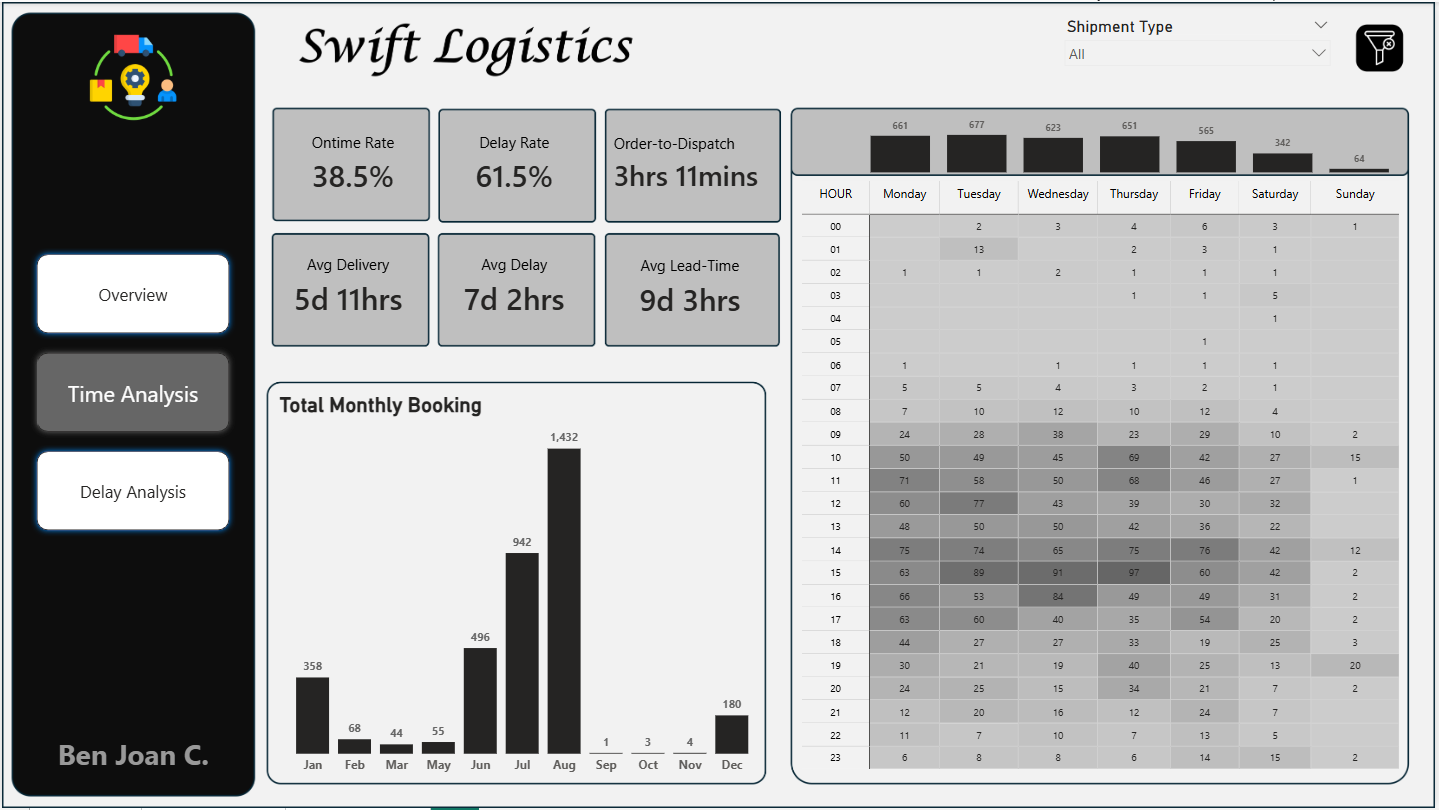

What the dashboard file says about the page in this screenshot:
{"tool":"powerbi","page":{"name":"Time Analysis","canvas":[1920,1080],"ordinal":1},"visuals":[{"type":"clusteredColumnChart","title":"Total Monthly Booking","fields":{"Y":["_Measures.Total Booking"],"Category":["Date.Booking Month Name"]},"box":[366.8,524.3,661.6,519.2],"z":0},{"type":"pivotTable","fields":{"Values":["_Measures.Total Booking"],"Columns":["Date.Booking Day"],"Rows":["Primary Data.Booking HR"]},"box":[1066.9,234.5,822.4,809],"z":1000},{"type":"clusteredColumnChart","fields":{"Category":["Date.Booking Day"],"Y":["_Measures.Total Booking"]},"box":[1159.1,144,706.8,90.4],"z":2000},{"type":"cardVisual","fields":{"Data":["_Measures.Avg Delivery"]},"box":[353.8,307.2,221.6,149],"z":3000},{"type":"cardVisual","fields":{"Data":["_Measures.Avg Delay"]},"box":[582.6,305.2,207.6,150],"z":4000},{"type":"cardVisual","fields":{"Data":["_Measures.Avg Lead-Time"]},"box":[807.3,306.5,229.5,150.7],"z":5000},{"type":"cardVisual","fields":{"Data":["_Measures.Delay Rate %"]},"box":[582.6,141.3,207.6,150],"z":6000},{"type":"cardVisual","fields":{"Data":["_Measures.Avg Order-to-Dispatch Time Display"]},"box":[790.6,140.7,263,150.7],"z":7000},{"type":"cardVisual","fields":{"Data":["_Measures.Ontime Rate %"]},"box":[366.8,140.7,207.7,150.7],"z":8000},{"type":"textbox","box":[38.5,978.2,274.7,63.6],"z":9000},{"type":"image","box":[38.5,43.5,274.7,115.6],"z":10000},{"type":"image","box":[1803.5,27.9,83.7,66.3],"z":11000},{"type":"slicer","fields":{"Values":["Primary Data.Shipment Type"]},"box":[1413.2,14.9,376.1,80.1],"z":12000},{"type":"pageNavigator","box":[38.5,330,274.7,386.9],"z":13000}]}

Visuals, with their boxes in screenshot pixels (x1, y1, x2, y2), scaled from the page's 1920x1080 canvas onto the 1439x810 screenshot:
"Total Monthly Booking" clusteredColumnChart: select_region(275, 393, 771, 783)
pivotTable - _Measures.Total Booking x Date.Booking Day: select_region(800, 176, 1416, 783)
clusteredColumnChart - Date.Booking Day x _Measures.Total Booking: select_region(869, 108, 1398, 176)
cardVisual - _Measures.Avg Delivery: select_region(265, 230, 431, 342)
cardVisual - _Measures.Avg Delay: select_region(437, 229, 592, 341)
cardVisual - _Measures.Avg Lead-Time: select_region(605, 230, 777, 343)
cardVisual - _Measures.Delay Rate %: select_region(437, 106, 592, 218)
cardVisual - _Measures.Avg Order-to-Dispatch Time Display: select_region(593, 106, 790, 219)
cardVisual - _Measures.Ontime Rate %: select_region(275, 106, 431, 219)
textbox: select_region(29, 734, 235, 781)
image: select_region(29, 33, 235, 119)
image: select_region(1352, 21, 1414, 71)
slicer - Primary Data.Shipment Type: select_region(1059, 11, 1341, 71)
pageNavigator: select_region(29, 248, 235, 538)
